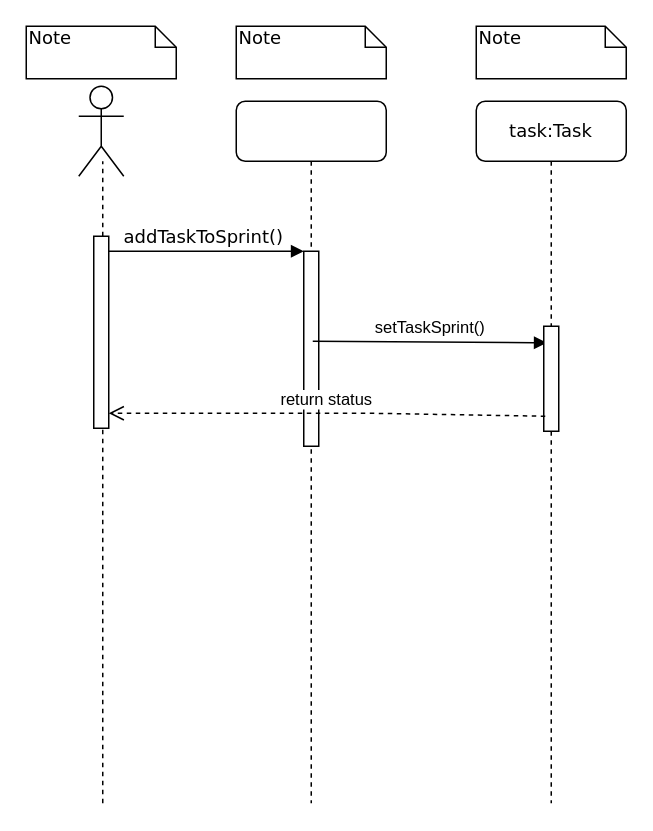
This 653x831 diagram has some shape labels left out. The shapes that lost their labels are listed below. From the top down, each one's box as (x1, y1, x2, y2) in pixels, then its label:
(77, 85, 124, 176): user
(235, 100, 386, 803): project:Project
